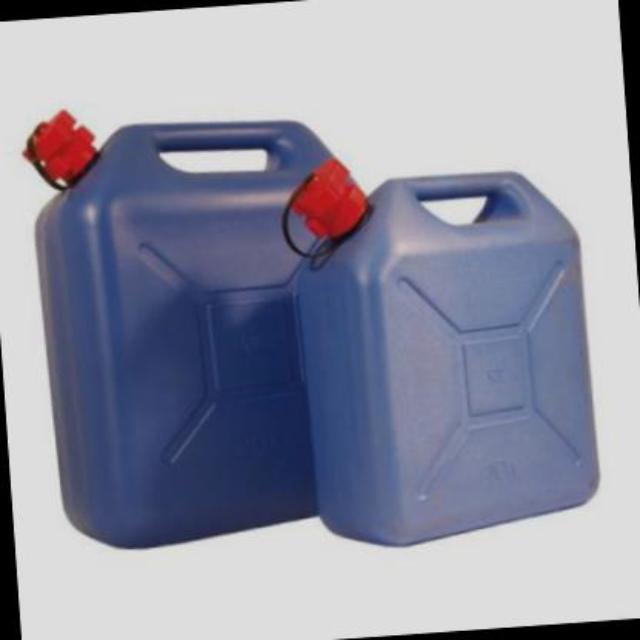chemical_plastic_gallon: (17, 70, 303, 558), (288, 140, 616, 560)
